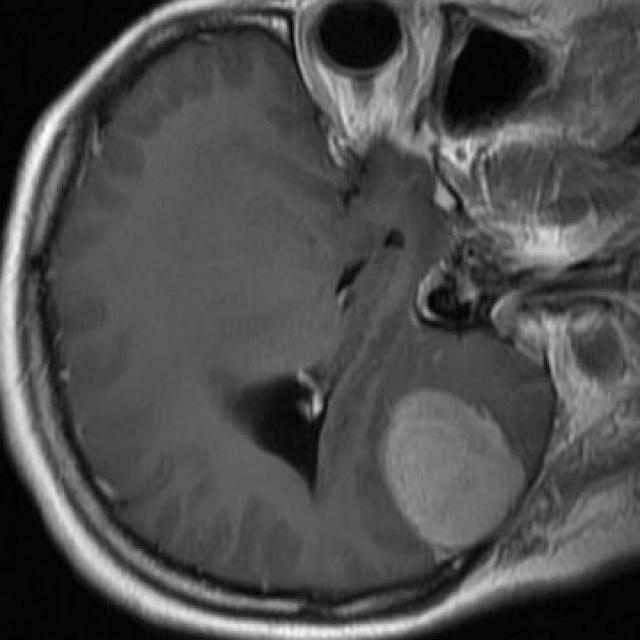meningioma: (382, 389, 528, 549)
